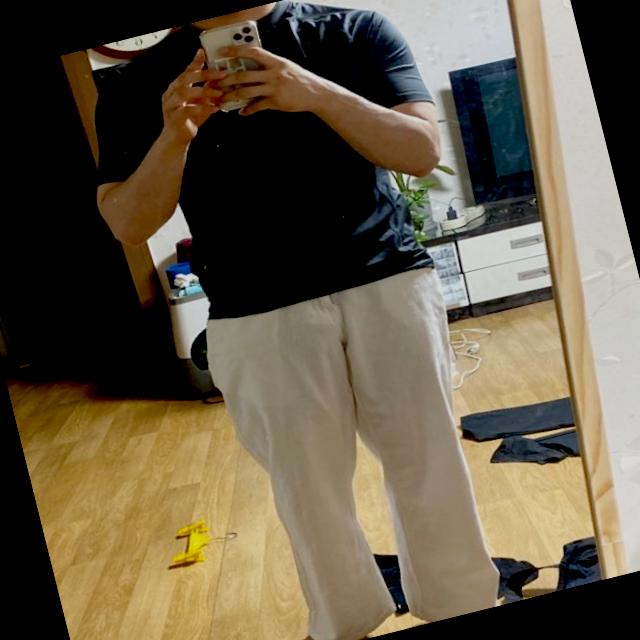cottonpants: (197, 259, 520, 640)
shortsleeve: (72, 0, 470, 343)
